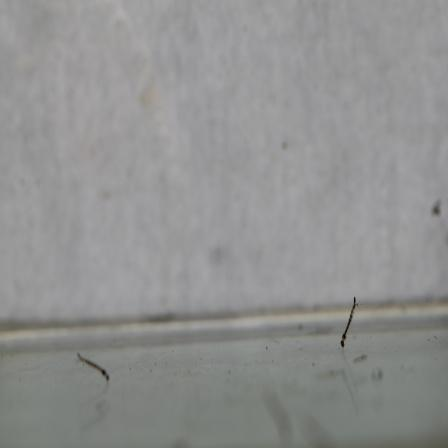Jentik-Nyamuk: (73, 350, 115, 387), (337, 293, 362, 351)
